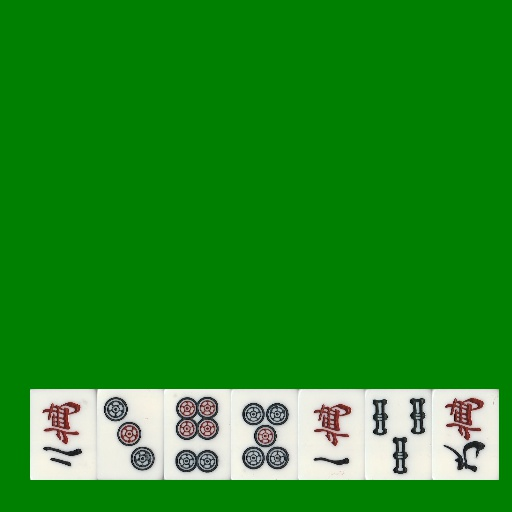1m: (298, 389, 365, 480)
2m: (30, 389, 97, 480)
3p: (97, 389, 164, 480)
3s: (365, 389, 432, 480)
5p: (231, 389, 298, 480)
6p: (164, 389, 231, 480)
9m: (432, 389, 499, 480)
